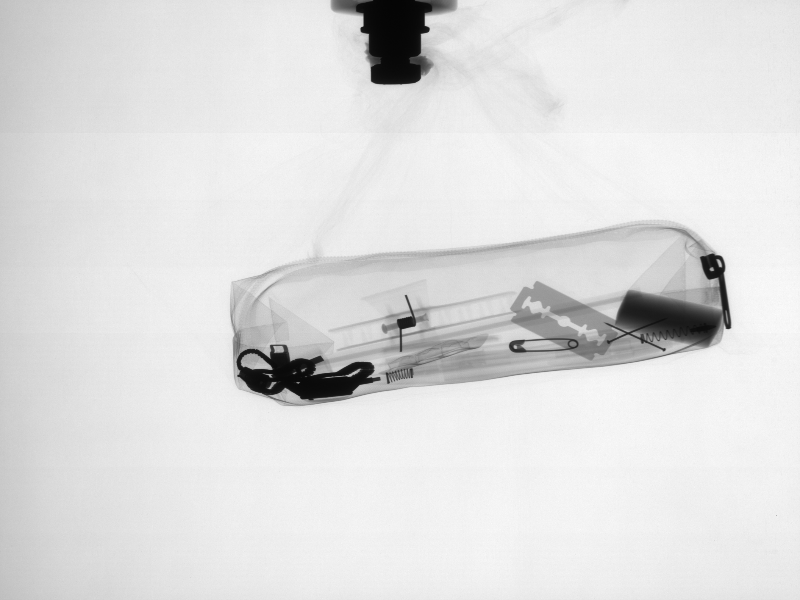bobby pin: (505, 337, 582, 354)
needle: (605, 319, 671, 354)
rasor blade: (512, 284, 617, 357)
rope: (237, 338, 379, 398)
string: (637, 330, 715, 340)
